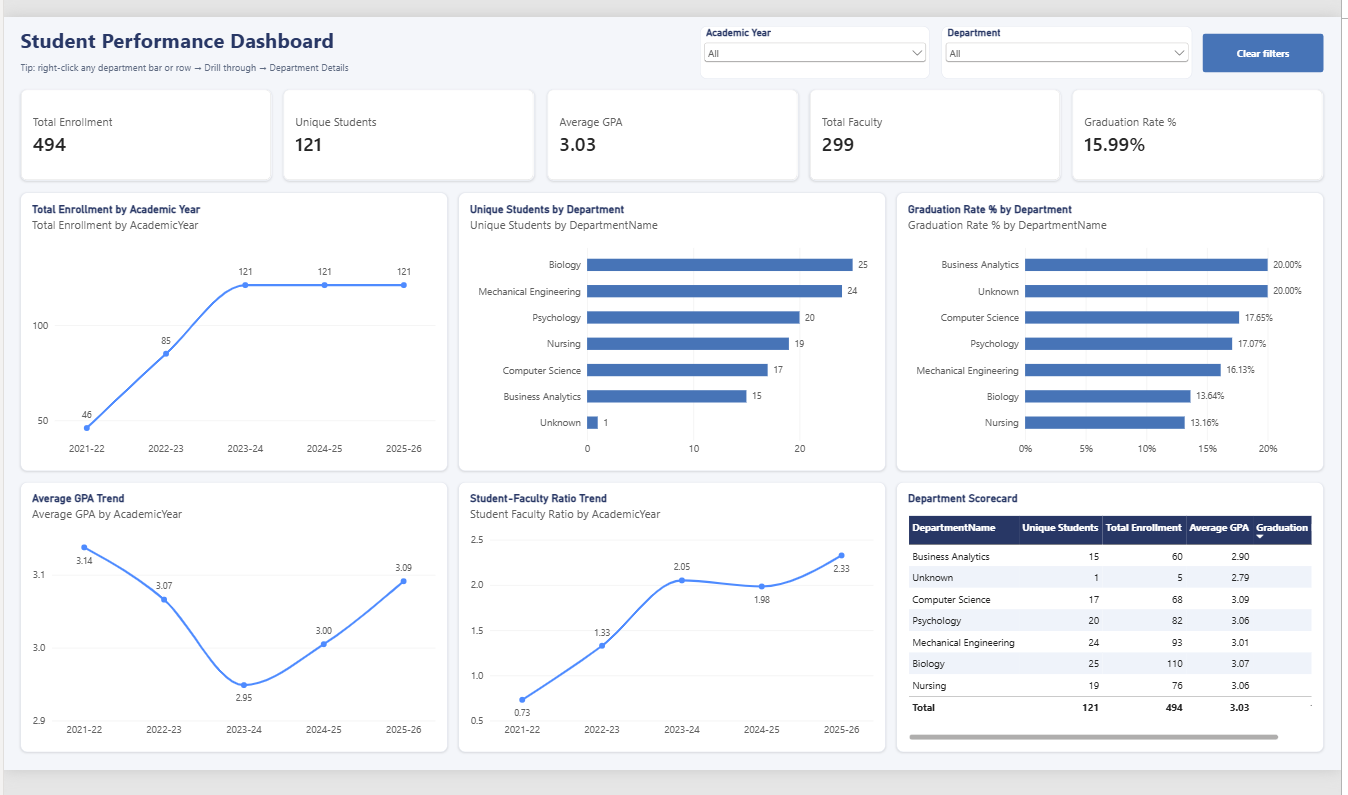

What the dashboard file says about the page in this screenshot:
{"tool":"powerbi","page":{"name":"Overview","canvas":[1920,1080],"ordinal":0},"visuals":[{"type":"textbox","box":[24,14,760,56],"z":100},{"type":"textbox","box":[24,62,900,34],"z":110},{"type":"slicer","fields":{"Values":["DimAcademicYear.AcademicYear"]},"box":[1000,14,330,76],"z":120},{"type":"slicer","fields":{"Values":["DepartmentsTable.DepartmentName"]},"box":[1346,14,360,76],"z":130},{"type":"actionButton","box":[1722,24,174,56],"z":140},{"type":"cardVisual","fields":{"Data":["EnrollmentTable.Total Enrollment"]},"box":[24,104,361.6,132],"z":1000},{"type":"cardVisual","fields":{"Data":["EnrollmentTable.Unique Students"]},"box":[401.6,104,361.6,132],"z":2000},{"type":"cardVisual","fields":{"Data":["EnrollmentTable.Average GPA"]},"box":[779.2,104,361.6,132],"z":3000},{"type":"cardVisual","fields":{"Data":["FacultyTable.Total Faculty"]},"box":[1156.8,104,361.6,132],"z":4000},{"type":"cardVisual","fields":{"Data":["EnrollmentTable.Graduation Rate %"]},"box":[1534.4,104,361.6,132],"z":5000},{"type":"lineChart","title":"Total Enrollment by Academic Year","fields":{"Category":["DimAcademicYear.AcademicYear"],"Y":["EnrollmentTable.Total Enrollment"]},"box":[24,252,613.3,400],"z":6000},{"type":"tableEx","title":"Department Scorecard","fields":{"Values":["DepartmentsTable.DepartmentName","EnrollmentTable.Unique Students","EnrollmentTable.Total Enrollment","EnrollmentTable.Average GPA","EnrollmentTable.Graduation Rate %"]},"box":[1282.7,668,613.3,388],"z":6000},{"type":"clusteredBarChart","title":"Unique Students by Department","fields":{"Category":["DepartmentsTable.DepartmentName"],"Y":["EnrollmentTable.Unique Students"]},"box":[653.3,252,613.3,400],"z":7000},{"type":"clusteredBarChart","title":"Graduation Rate % by Department","fields":{"Category":["DepartmentsTable.DepartmentName"],"Y":["EnrollmentTable.Graduation Rate %"]},"box":[1282.7,252,613.3,400],"z":8000},{"type":"lineChart","title":"Average GPA Trend","fields":{"Category":["DimAcademicYear.AcademicYear"],"Y":["EnrollmentTable.Average GPA"]},"box":[24,668,613.3,388],"z":9000},{"type":"lineChart","title":"Student-Faculty Ratio Trend","fields":{"Category":["DimAcademicYear.AcademicYear"],"Y":["FacultyTable.Student Faculty Ratio"]},"box":[653.3,668,613.3,388],"z":10000}]}

Visuals, with their boxes on the page's 1920x1080 design canvas (x1, y1, x2, y2). These are canvas units, not pixel positions in the 1348x795 screenshot, which may show the page scaled, cropped or inside an application window:
textbox: locate(24, 14, 784, 70)
textbox: locate(24, 62, 924, 96)
slicer - DimAcademicYear.AcademicYear: locate(1000, 14, 1330, 90)
slicer - DepartmentsTable.DepartmentName: locate(1346, 14, 1706, 90)
actionButton: locate(1722, 24, 1896, 80)
cardVisual - EnrollmentTable.Total Enrollment: locate(24, 104, 386, 236)
cardVisual - EnrollmentTable.Unique Students: locate(402, 104, 763, 236)
cardVisual - EnrollmentTable.Average GPA: locate(779, 104, 1141, 236)
cardVisual - FacultyTable.Total Faculty: locate(1157, 104, 1518, 236)
cardVisual - EnrollmentTable.Graduation Rate %: locate(1534, 104, 1896, 236)
"Total Enrollment by Academic Year" lineChart: locate(24, 252, 637, 652)
"Department Scorecard" tableEx: locate(1283, 668, 1896, 1056)
"Unique Students by Department" clusteredBarChart: locate(653, 252, 1267, 652)
"Graduation Rate % by Department" clusteredBarChart: locate(1283, 252, 1896, 652)
"Average GPA Trend" lineChart: locate(24, 668, 637, 1056)
"Student-Faculty Ratio Trend" lineChart: locate(653, 668, 1267, 1056)
